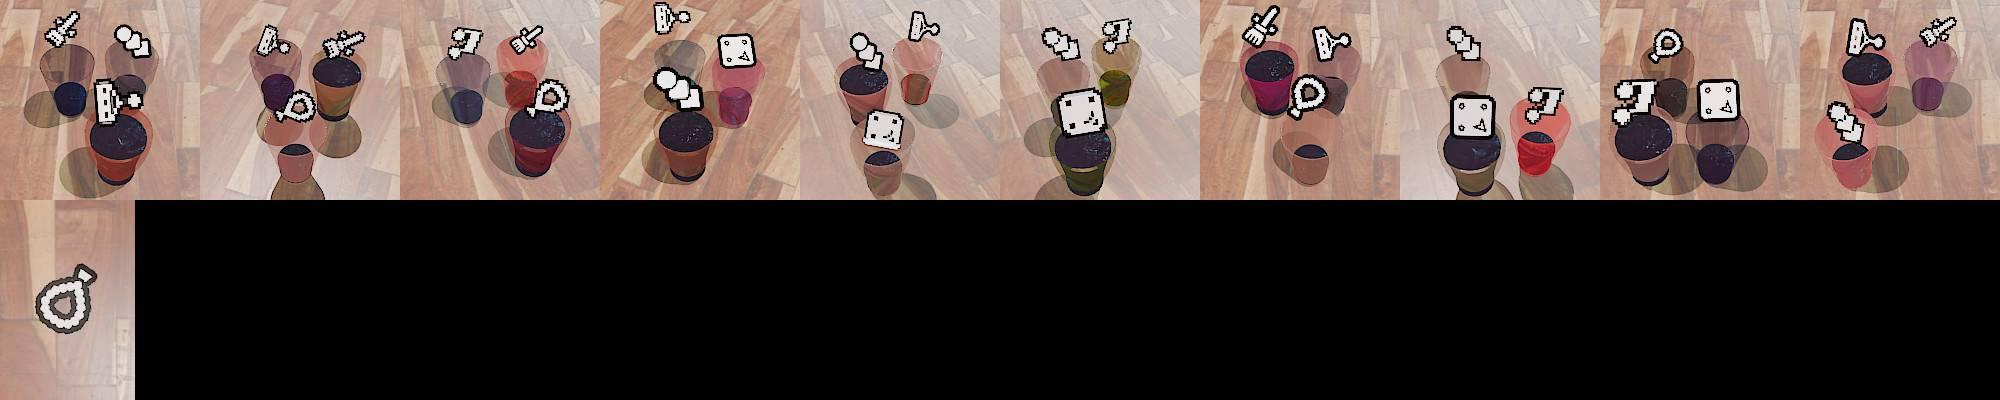icon: (33, 262, 98, 334), (1055, 87, 1107, 138), (91, 77, 144, 126), (652, 66, 705, 111), (1449, 92, 1496, 140), (1614, 78, 1660, 123), (1696, 78, 1741, 122), (1288, 73, 1329, 120), (862, 109, 905, 150), (1242, 5, 1282, 48), (1827, 100, 1866, 144), (1846, 16, 1887, 57), (527, 77, 570, 116), (1311, 24, 1353, 63), (1524, 85, 1566, 124), (717, 32, 758, 70), (276, 89, 319, 124), (1445, 24, 1483, 63), (321, 29, 367, 60), (1647, 28, 1685, 65), (849, 32, 885, 71), (45, 9, 81, 48), (1042, 26, 1081, 62), (113, 23, 153, 58), (446, 26, 485, 61), (257, 22, 295, 57), (653, 2, 692, 36), (1099, 17, 1133, 55), (1919, 15, 1956, 49), (907, 10, 941, 44), (510, 25, 543, 55)
